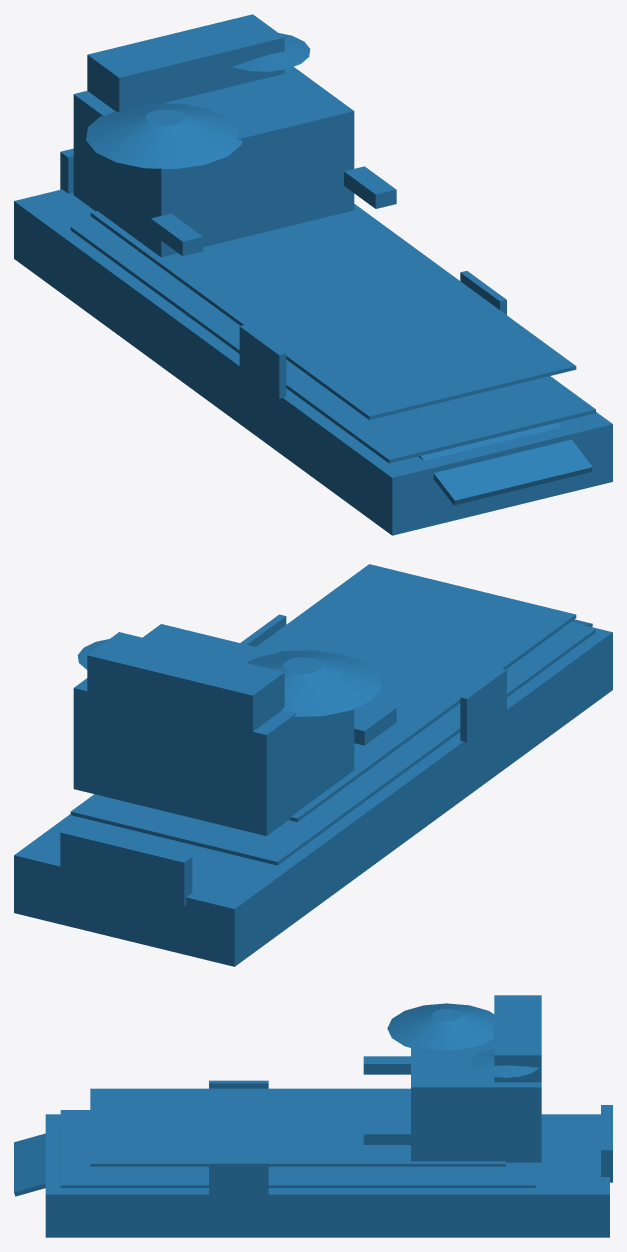
Rendered from roro.glb.
3 views of the same model, one above another, from view 1: azimuth 30°, elevation 25°; view 2: azimuth 150°, elevation 25°; view 3: azimuth 270°, elevation 25° (orthographic). The views are drawn at different scales.
Parts seen in each view (by area): view 1: vehicleDeck2, hull, superstructure, vehicleDeck1, bridge, funnel, sternRamp, sideDoorL, lifeboat2, lifeboat1, mast, sideDoorR; view 2: hull, superstructure, vehicleDeck2, bridge, vehicleDeck1, bowVisor, funnel, sideDoorL, lifeboat1, sideDoorR; view 3: hull, vehicleDeck2, superstructure, vehicleDeck1, funnel, bridge, sideDoorR, sternRamp, mast, lifeboat1, lifeboat2, bowVisor (+1 smaller).
Part boxes in pixels (<box>): vehicleDeck2: <box>90,204,576,419</box>; hull: <box>14,189,612,535</box>; superstructure: <box>73,67,354,257</box>; vehicleDeck1: <box>70,220,595,463</box>; bridge: <box>87,14,284,111</box>; funnel: <box>86,103,242,168</box>; sternRamp: <box>418,422,592,505</box>; sideDoorL: <box>239,324,286,398</box>; lifeboat2: <box>344,166,396,208</box>; lifeboat1: <box>151,213,203,255</box>; mast: <box>233,33,310,71</box>; sideDoorR: <box>460,271,506,314</box>; hull: <box>14,622,612,966</box>; superstructure: <box>73,624,354,835</box>; vehicleDeck2: <box>256,564,576,821</box>; bridge: <box>87,632,284,753</box>; vehicleDeck1: <box>70,622,595,865</box>; bowVisor: <box>60,826,192,905</box>; funnel: <box>246,650,381,716</box>; sideDoorL: <box>460,668,506,742</box>; lifeboat1: <box>354,703,396,745</box>; sideDoorR: <box>240,614,286,646</box>; hull: <box>45,1114,609,1237</box>; vehicleDeck2: <box>90,1088,505,1166</box>; superstructure: <box>411,1038,541,1162</box>; vehicleDeck1: <box>60,1110,535,1187</box>; funnel: <box>387,1003,494,1050</box>; bridge: <box>494,995,541,1082</box>; sideDoorR: <box>209,1161,268,1195</box>; sternRamp: <box>14,1129,60,1196</box>; mast: <box>470,1048,538,1077</box>; lifeboat1: <box>363,1056,410,1074</box>; lifeboat2: <box>363,1126,410,1144</box>; bowVisor: <box>601,1105,612,1182</box>.
Bounding box in the file's own units: 36.5 × 32 × 101.
